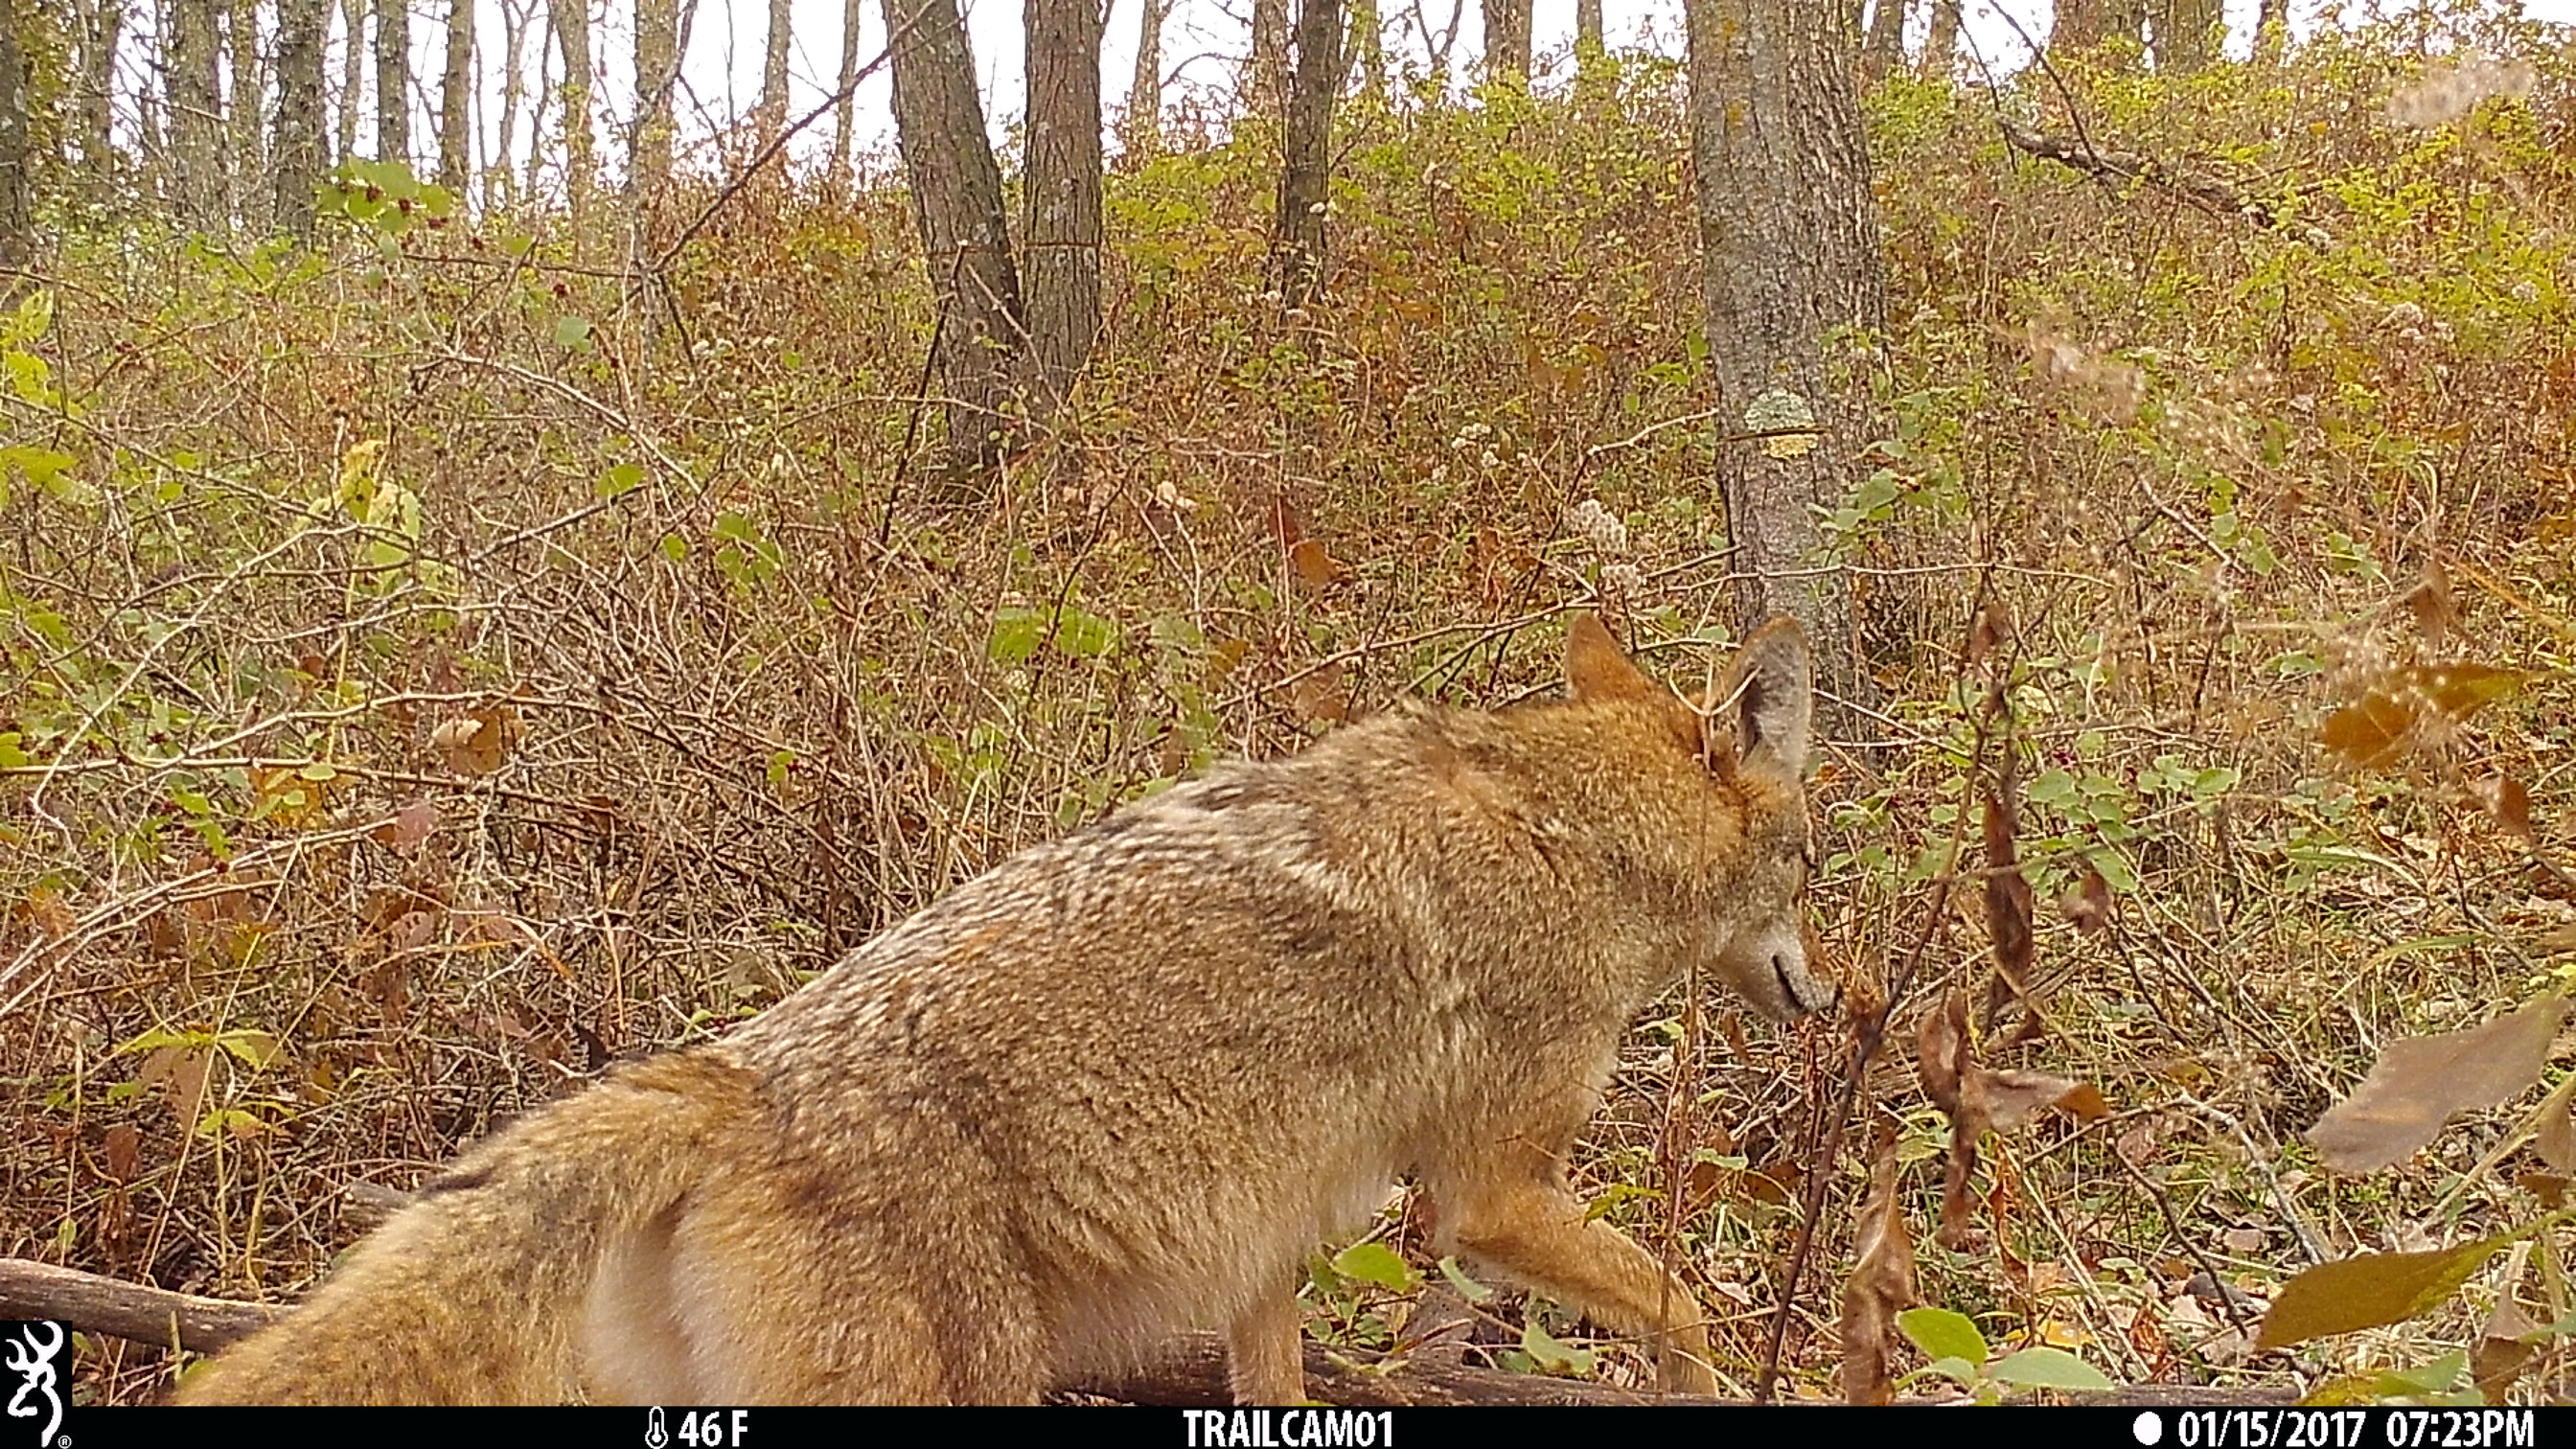Coyote: (166, 609, 1840, 1408)
